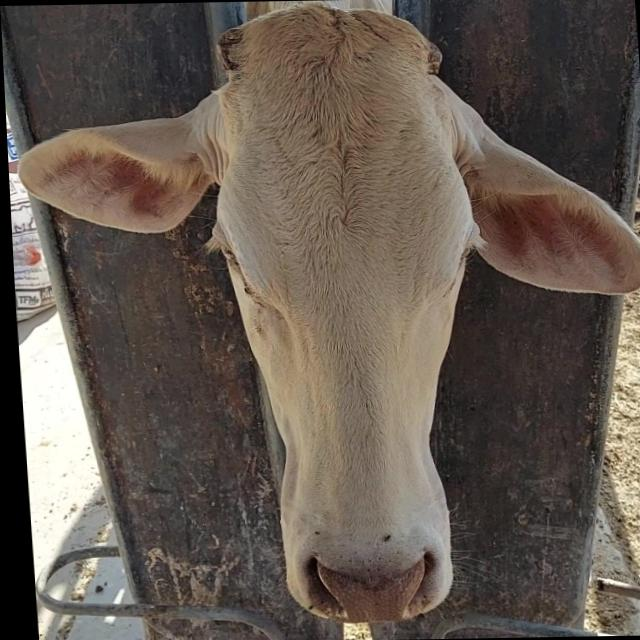cowFace: (198, 2, 497, 624)
